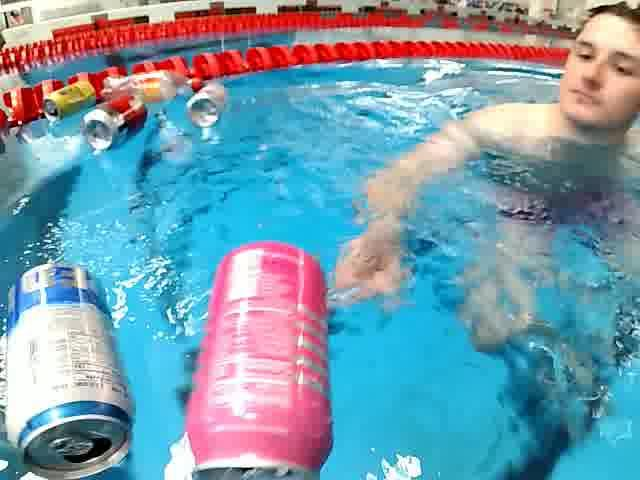Bottle: (98, 67, 204, 103)
Can: (164, 233, 337, 480), (0, 256, 143, 479), (75, 91, 156, 155), (36, 76, 100, 126), (180, 81, 234, 131)
